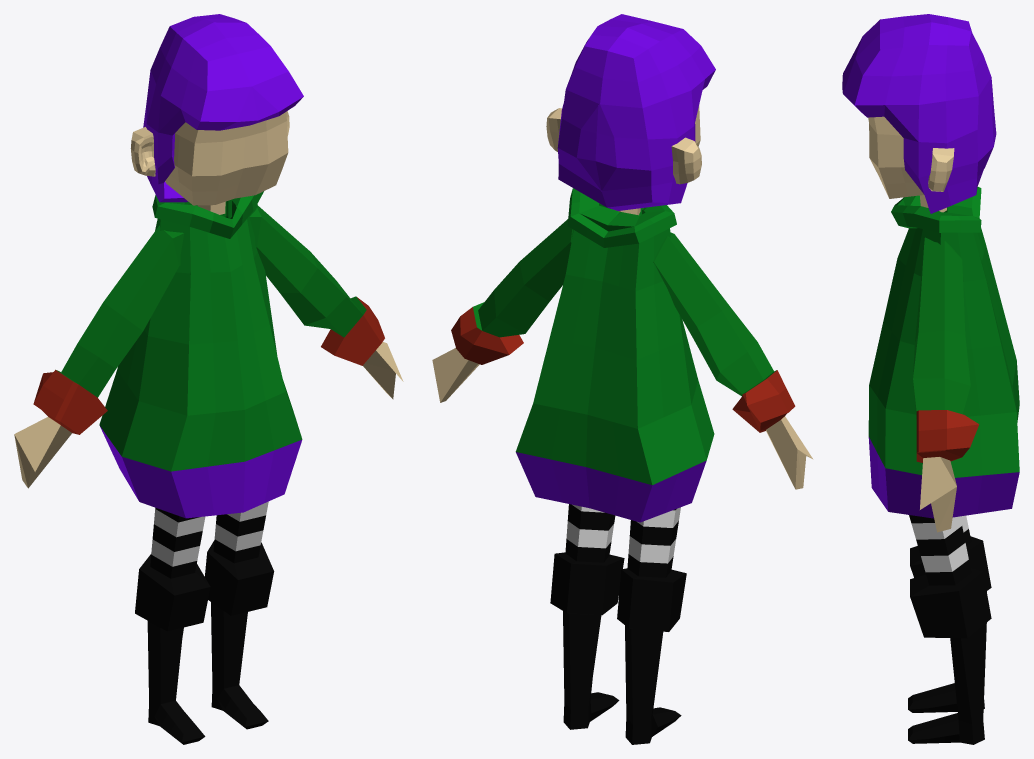
File: Test Blend.fbx
3 views of the same model, side by side, from view 1: azimuth 30°, elevation 25°; view 2: azimuth 150°, elevation 25°; view 3: azimuth 270°, elevation 25° (orthographic). The views are drawn at different scales.
Parts seen in each view (by area): view 1: Cube, Cylinder.002, Cylinder, Cube.003, Cube.001, Cube.002; view 2: Cube, Cube.003, Cylinder.002, Cylinder, Cube.002; view 3: Cube, Cube.003, Cylinder, Cylinder.002, Cube.001, Cube.002.
Part boxes in pixels (x1,y1,x2,y2): Cube: (99, 191, 302, 518); Cylinder.002: (14, 203, 403, 488); Cylinder: (135, 501, 274, 744); Cube.003: (143, 14, 303, 202); Cube.001: (165, 112, 288, 205); Cube.002: (130, 111, 289, 176); Cube: (515, 188, 714, 522); Cube.003: (557, 14, 715, 210); Cylinder.002: (432, 219, 813, 489); Cylinder: (550, 504, 686, 744); Cube.002: (546, 108, 701, 184); Cube: (868, 187, 1019, 518); Cube.003: (842, 14, 996, 213); Cylinder: (908, 515, 991, 744); Cylinder.002: (913, 237, 979, 532); Cube.001: (868, 116, 923, 198); Cube.002: (928, 148, 954, 191).
Bounding box in the file's own units: 212 × 384 × 87.98.
